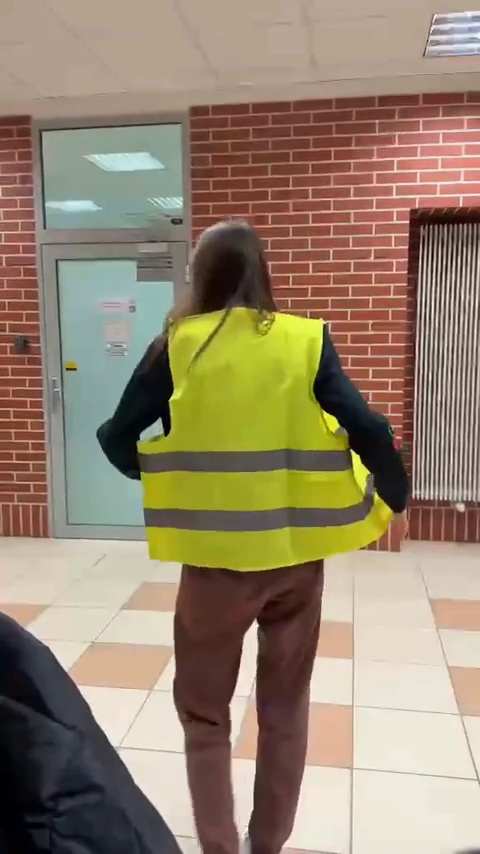vest: (93, 226, 419, 854)
